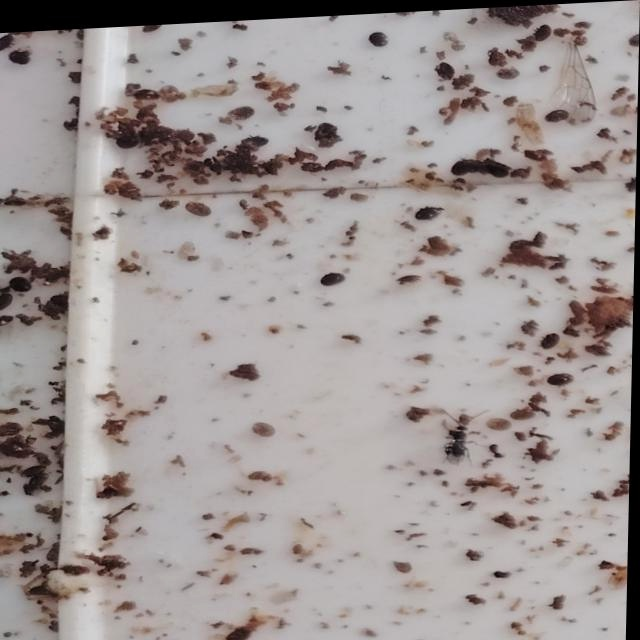varroa: (409, 201, 448, 222), (319, 267, 350, 287), (240, 129, 273, 147), (7, 268, 36, 288), (112, 129, 142, 148), (451, 155, 476, 177), (226, 102, 256, 120), (546, 370, 577, 387), (132, 82, 162, 99), (541, 331, 564, 353), (543, 108, 570, 126), (531, 22, 553, 44), (435, 59, 457, 81), (7, 43, 32, 60), (366, 29, 390, 45), (137, 20, 166, 30), (623, 176, 636, 195)
